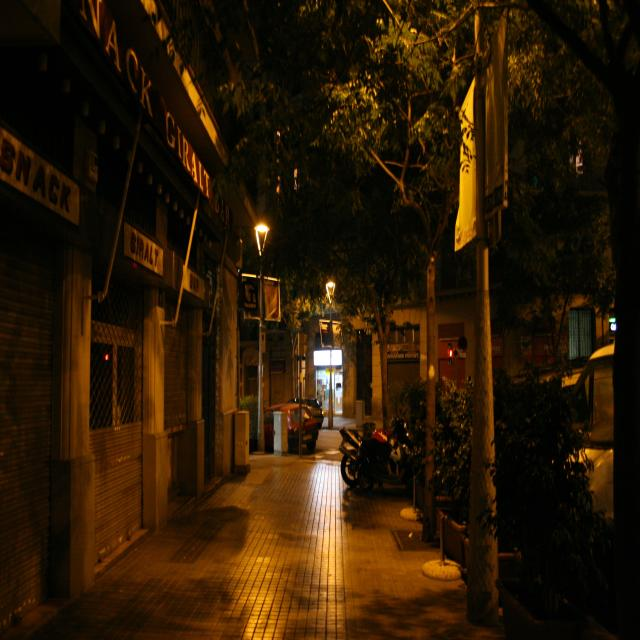Motorbike: (332, 409, 438, 516)
